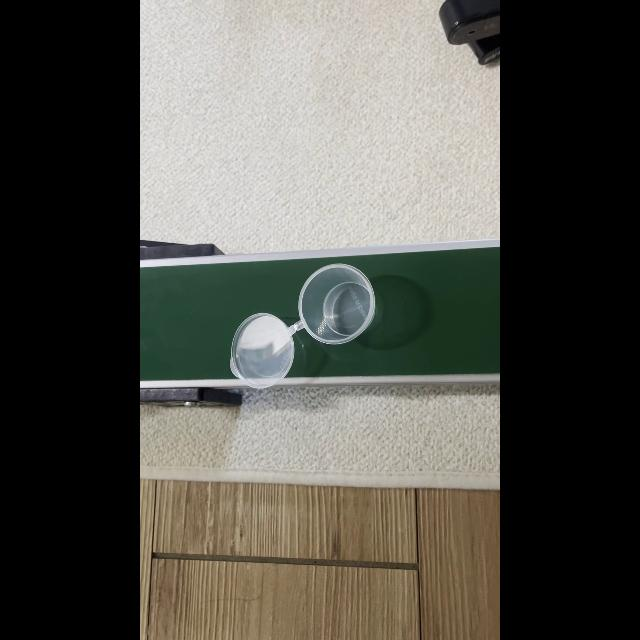clean: (230, 264, 374, 388)
